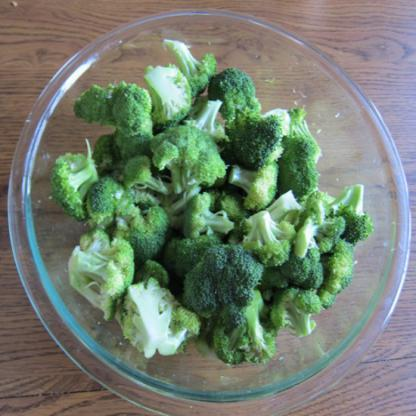broccoli: (46, 40, 374, 366)
